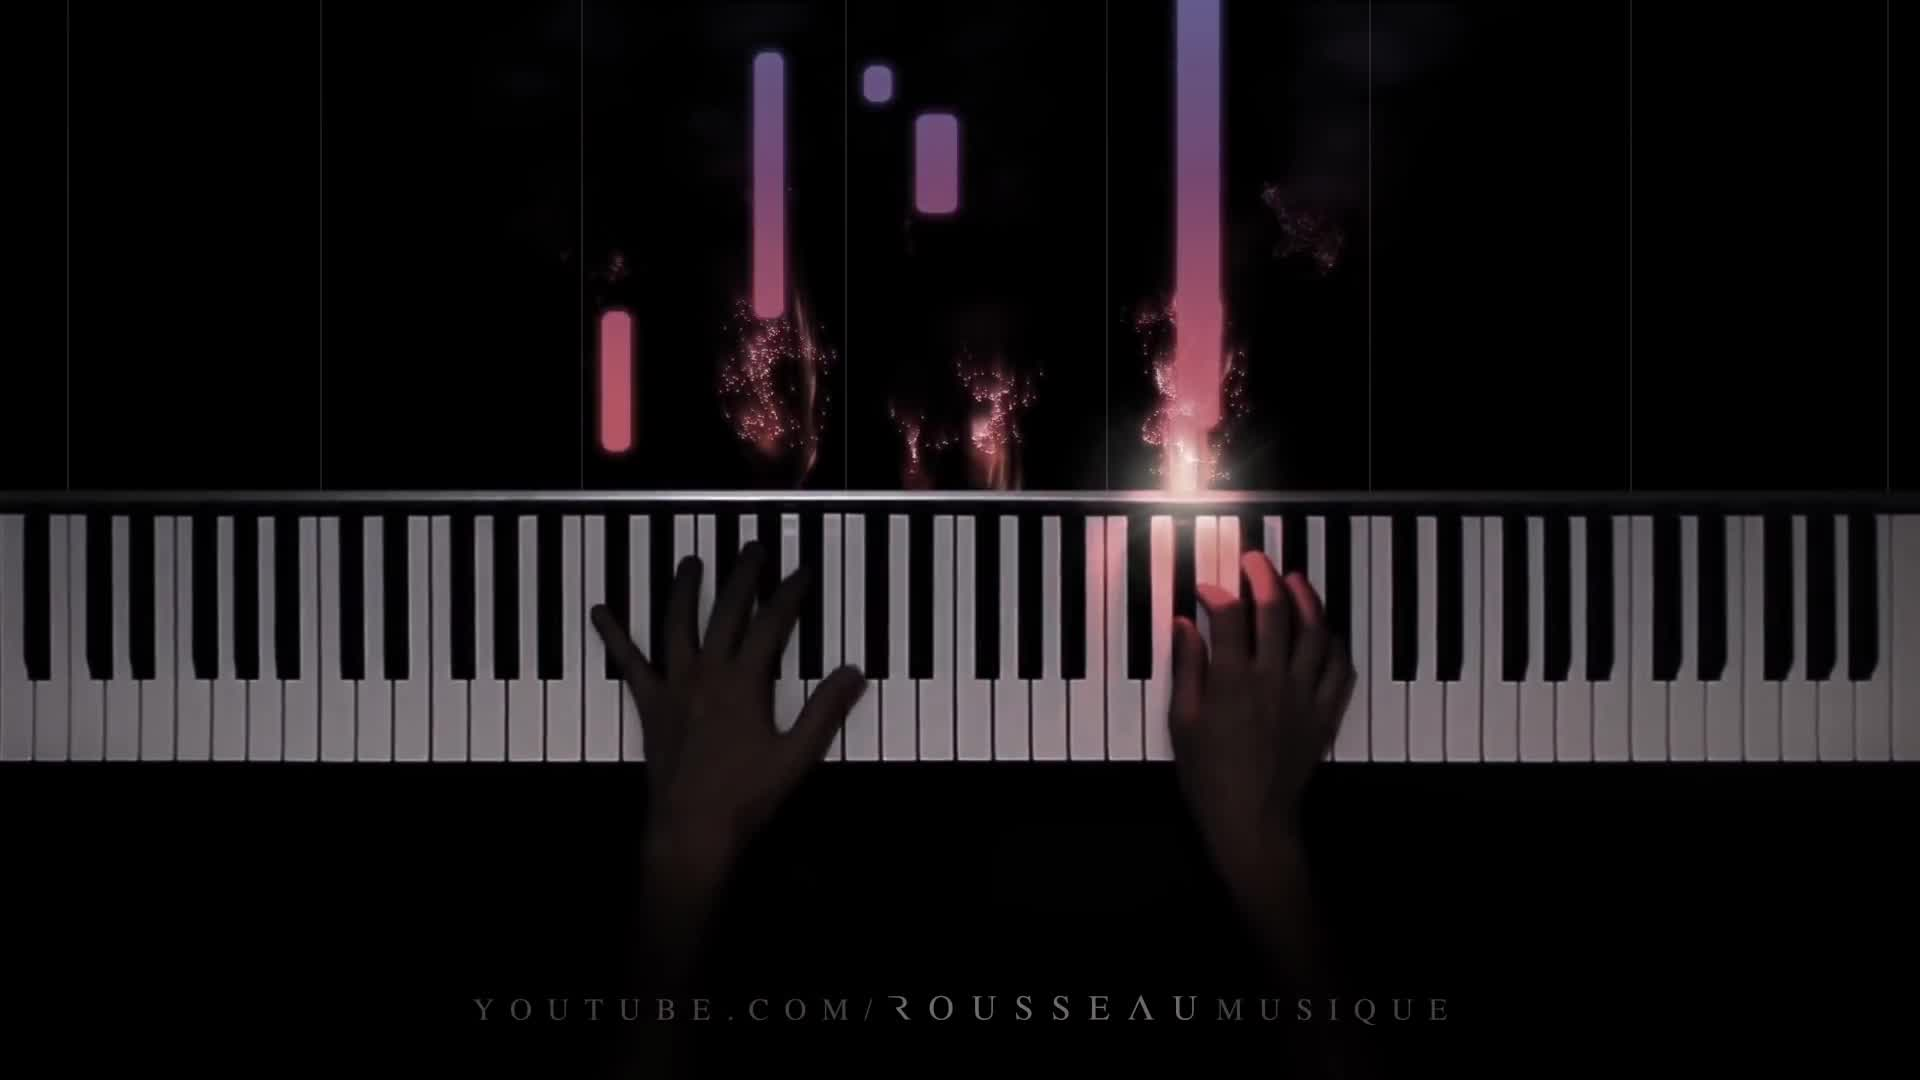left: (596, 541, 864, 837)
right: (1167, 551, 1358, 816)
